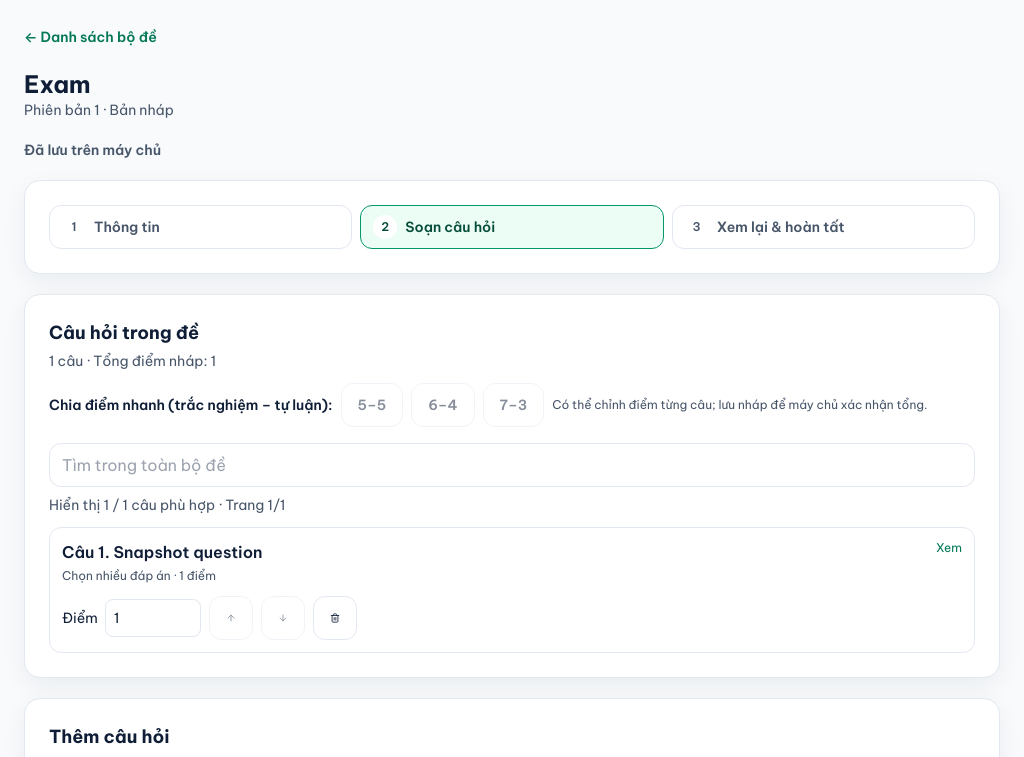
Test: assessment draft UI › renders multiple_choice without exposing internal option or statement IDs
Click the button "Câu 1. Snapshot question Xem": (80, 552) [62,540,962,564]
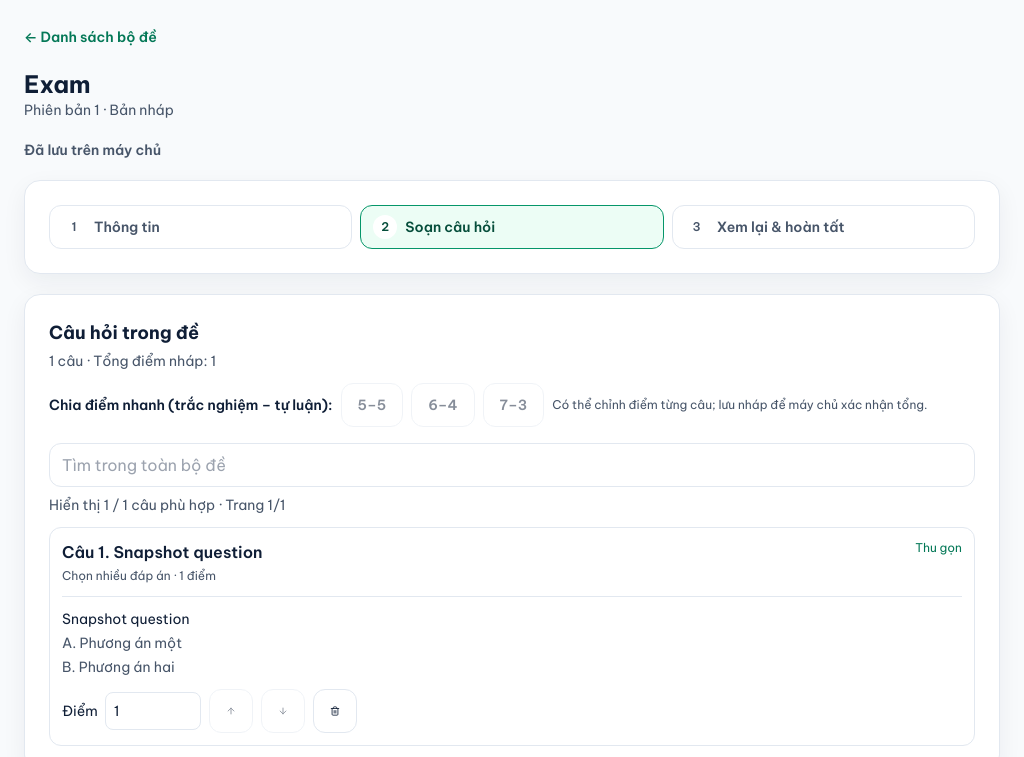
Result: the text "B. Phương án hai" is shown at [62,658,175,676]
